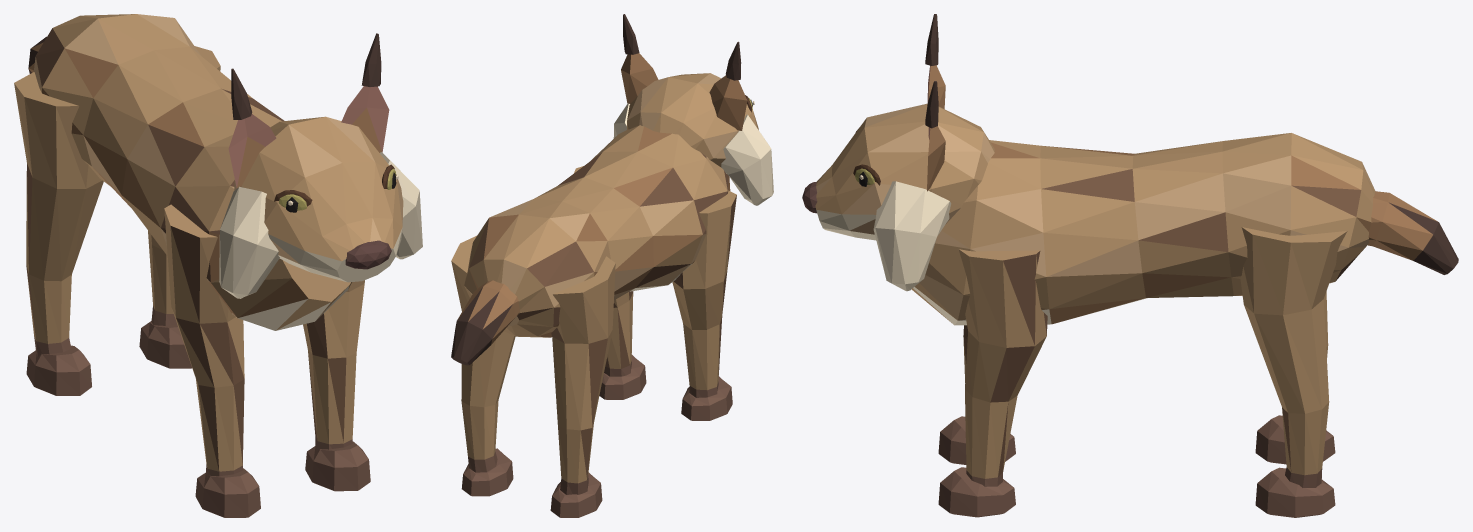
Rendered from MOB_Lynx.glb.
The picture shows the model from 3 angles, left to right: view 1: azimuth 30°, elevation 25°; view 2: azimuth 150°, elevation 25°; view 3: azimuth 270°, elevation 25°; orthographic projection. The views are drawn at different scales.
Visible parts, largest first — view 1: SM_MOB_Lynx_Body, SM_MOB_Lynx_Head, SM_MOB_Lynx_HindLeg_R, SM_MOB_Lynx_FrontLeg_R, SM_MOB_Lynx_FrontLeg_L, SM_MOB_Lynx_CheekRuff_R, SM_MOB_Lynx_Paw_Hind_R, SM_MOB_Lynx_Paw_Front_L, SM_MOB_Lynx_Paw_Front_R, SM_MOB_Lynx_Ear_R, SM_MOB_Lynx_HindLeg_L, SM_MOB_Lynx_Ear_L (+5 smaller); view 2: SM_MOB_Lynx_Body, SM_MOB_Lynx_HindLeg_R, SM_MOB_Lynx_FrontLeg_R, SM_MOB_Lynx_Head, SM_MOB_Lynx_HindLeg_L, SM_MOB_Lynx_Bobtail, SM_MOB_Lynx_CheekRuff_R, SM_MOB_Lynx_FrontLeg_L, SM_MOB_Lynx_Paw_Hind_L, SM_MOB_Lynx_Ear_R, SM_MOB_Lynx_Paw_Front_R, SM_MOB_Lynx_Paw_Hind_R (+4 smaller); view 3: SM_MOB_Lynx_Body, SM_MOB_Lynx_HindLeg_L, SM_MOB_Lynx_FrontLeg_L, SM_MOB_Lynx_Head, SM_MOB_Lynx_CheekRuff_L, SM_MOB_Lynx_Bobtail, SM_MOB_Lynx_Paw_Hind_L, SM_MOB_Lynx_Paw_Front_L, SM_MOB_Lynx_Paw_Hind_R, SM_MOB_Lynx_Paw_Front_R, SM_MOB_Lynx_Ear_L.
Part boxes in pixels (x1,y1,x2,y2): SM_MOB_Lynx_Body: (33,14,351,330); SM_MOB_Lynx_Head: (234,116,403,282); SM_MOB_Lynx_HindLeg_R: (14,72,103,356); SM_MOB_Lynx_FrontLeg_R: (164,204,244,477); SM_MOB_Lynx_FrontLeg_L: (303,280,364,450); SM_MOB_Lynx_CheekRuff_R: (219,186,279,298); SM_MOB_Lynx_Paw_Hind_R: (26,345,91,395); SM_MOB_Lynx_Paw_Front_L: (305,441,370,491); SM_MOB_Lynx_Paw_Front_R: (195,468,260,517); SM_MOB_Lynx_Ear_R: (228,114,276,188); SM_MOB_Lynx_HindLeg_L: (148,46,220,325); SM_MOB_Lynx_Ear_L: (341,86,389,152); SM_MOB_Lynx_Body: (464,125,730,337); SM_MOB_Lynx_HindLeg_R: (551,256,615,494); SM_MOB_Lynx_FrontLeg_R: (672,190,736,397); SM_MOB_Lynx_Head: (627,73,758,174); SM_MOB_Lynx_HindLeg_L: (451,235,515,472); SM_MOB_Lynx_Bobtail: (451,280,519,365); SM_MOB_Lynx_CheekRuff_R: (721,114,773,205); SM_MOB_Lynx_FrontLeg_L: (574,166,633,376); SM_MOB_Lynx_Paw_Hind_L: (461,448,513,496); SM_MOB_Lynx_Ear_R: (709,75,747,130); SM_MOB_Lynx_Paw_Front_R: (681,376,732,420); SM_MOB_Lynx_Paw_Hind_R: (550,472,602,517); SM_MOB_Lynx_Body: (911,133,1375,325); SM_MOB_Lynx_HindLeg_L: (1240,227,1347,487); SM_MOB_Lynx_FrontLeg_L: (958,249,1047,486); SM_MOB_Lynx_Head: (815,103,994,240); SM_MOB_Lynx_CheekRuff_L: (873,181,951,291); SM_MOB_Lynx_Bobtail: (1367,191,1458,274); SM_MOB_Lynx_Paw_Hind_L: (1255,467,1335,517); SM_MOB_Lynx_Paw_Front_L: (938,467,1015,517); SM_MOB_Lynx_Paw_Hind_R: (1255,415,1335,464); SM_MOB_Lynx_Paw_Front_R: (938,416,1015,464); SM_MOB_Lynx_Ear_L: (927,126,945,191).
Size of the model in its own units: 0.7456 by 1.63 by 2.23.
